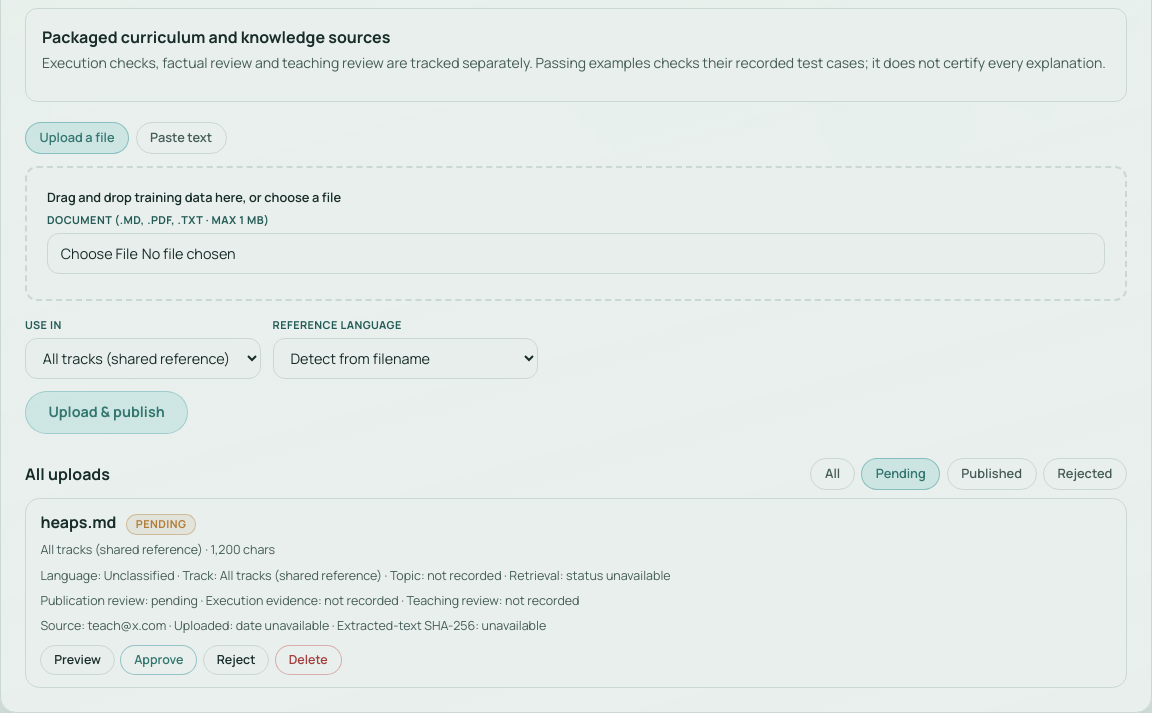
it: KnowledgeUploadPanel — admin › rejects with a trimmed note, or cancels
(page scrolled)
Click the button "Reject" at (236, 660), box [203,645,269,675]
(page scrolled)
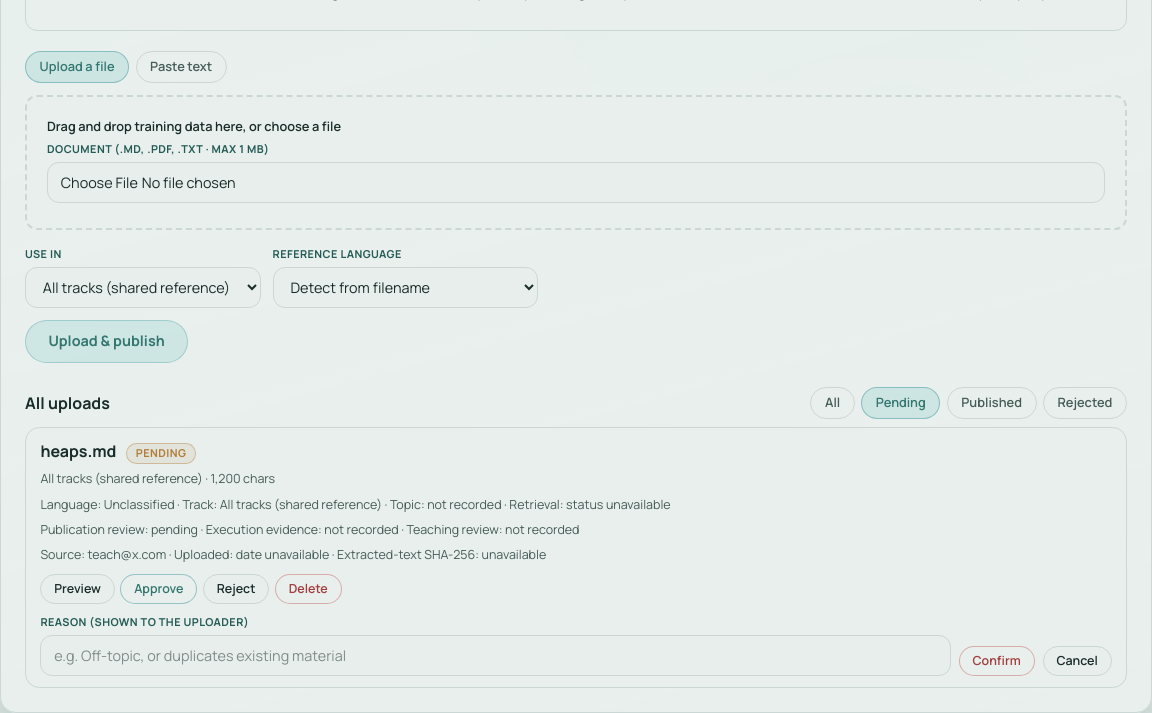
Click the button "Cancel" at (1077, 661), box [1043,646,1112,676]
(page scrolled)
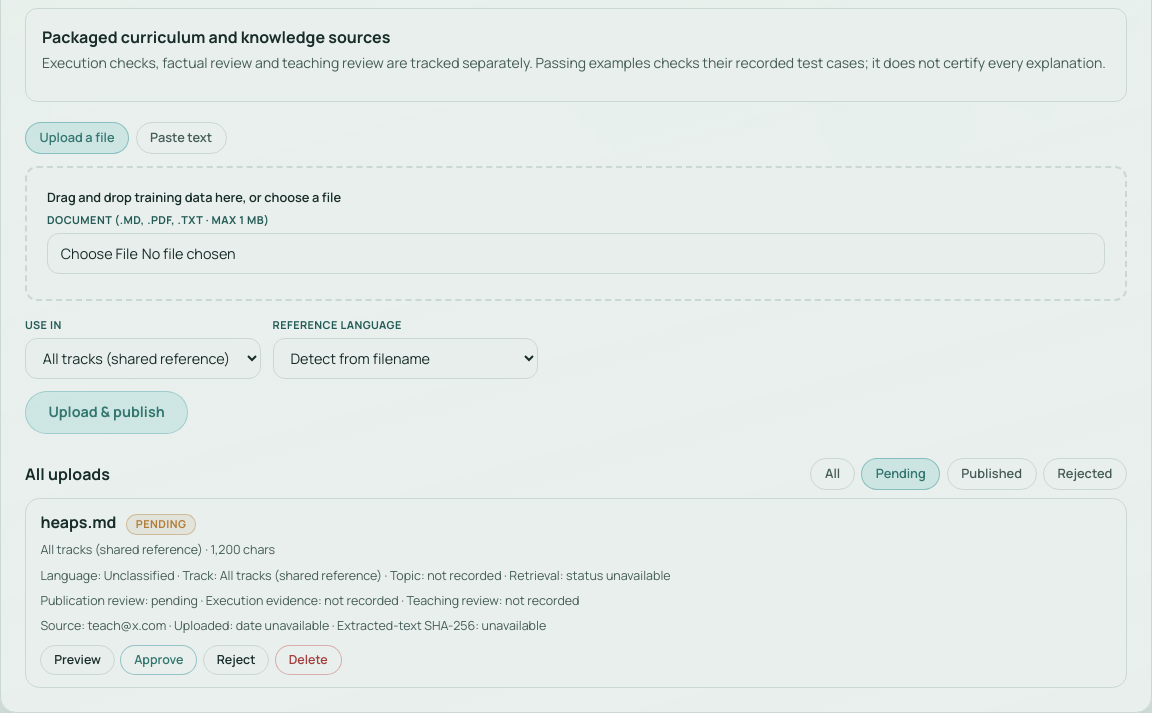
Expected: the button "Confirm" is gone
Click the button "Reject" at (236, 660), box [203,645,269,675]
(page scrolled)
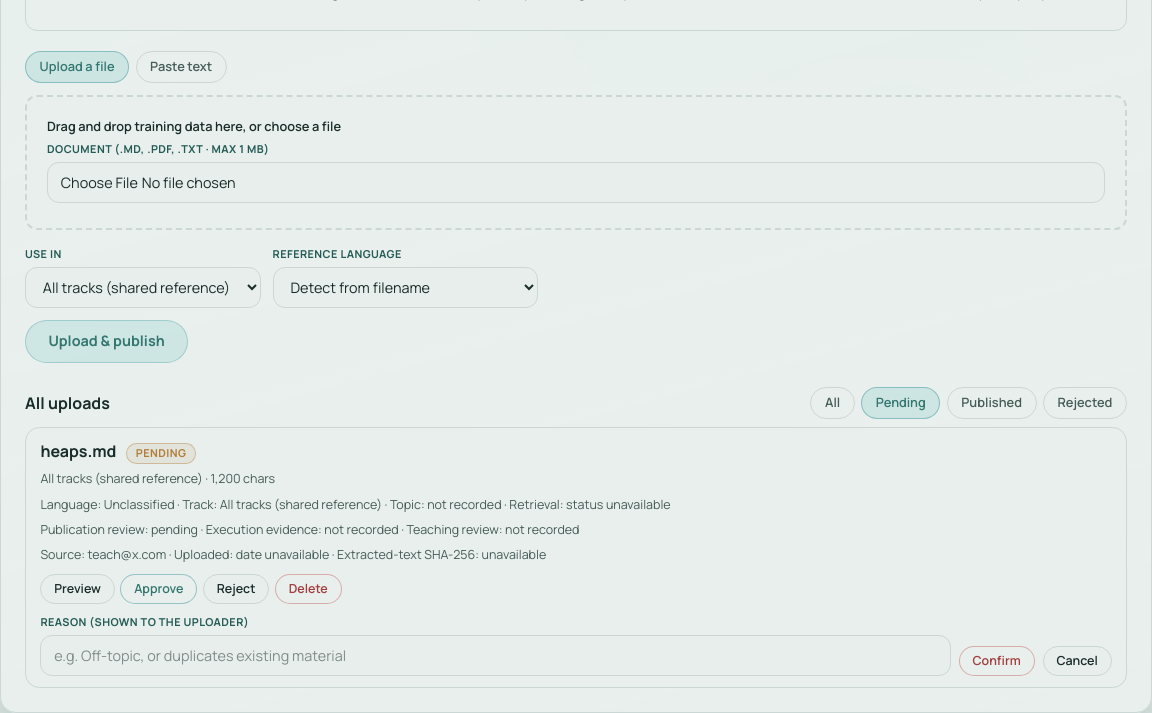
Type " dup " into the field with placeholder "e.g. Off-topic, or duplicates existing material" at (496, 656), box [40,635,951,676]
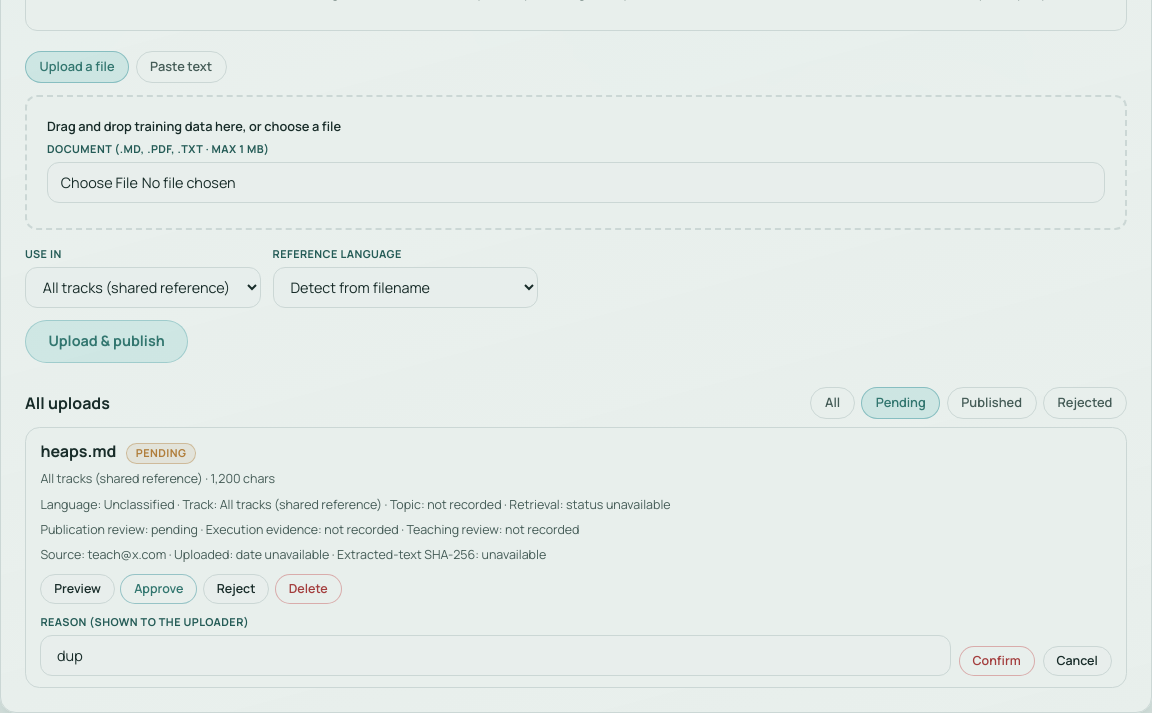
Click the button "Confirm" at (997, 661), box [959,646,1035,676]
(page scrolled)
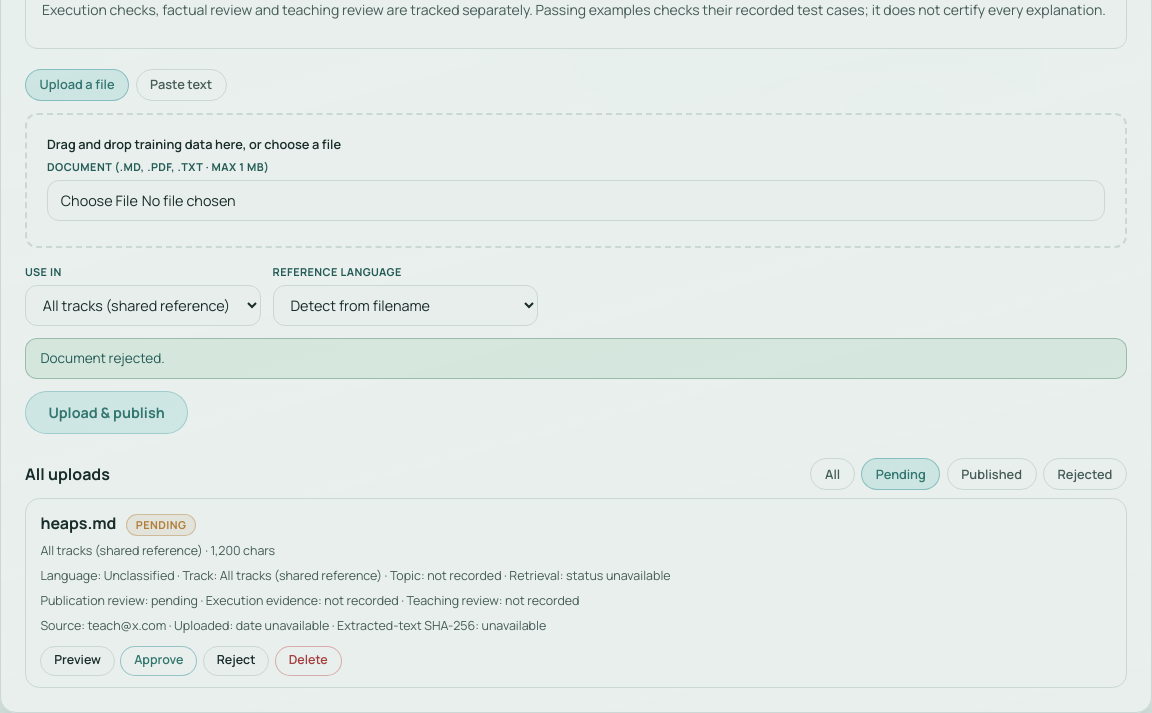
Expected: the message reads "Document rejected.", [40,349,165,367]
